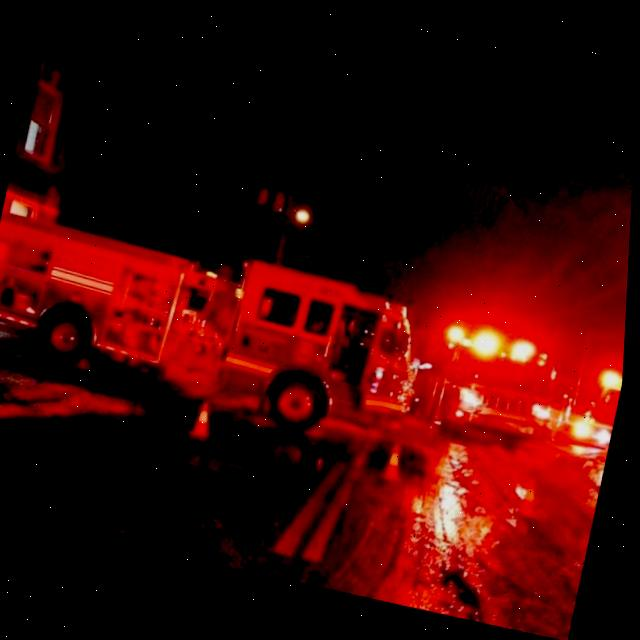emergency: (0, 204, 438, 450), (408, 307, 571, 446)
